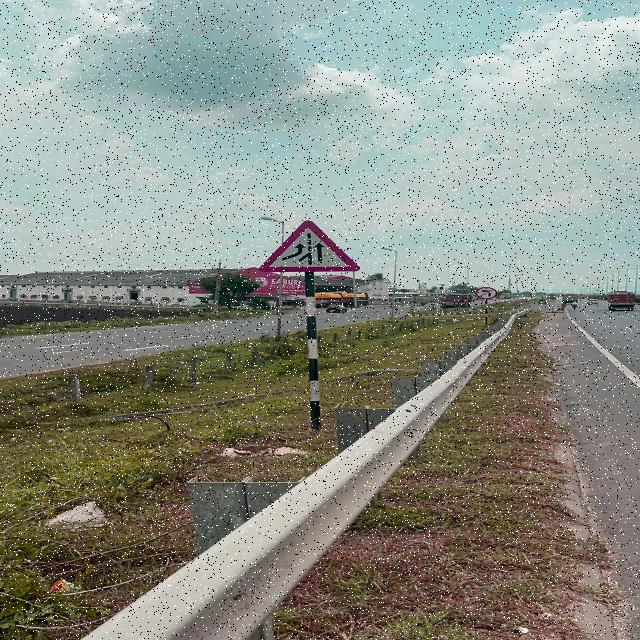merging_traffic_from_left: (244, 207, 376, 278)
